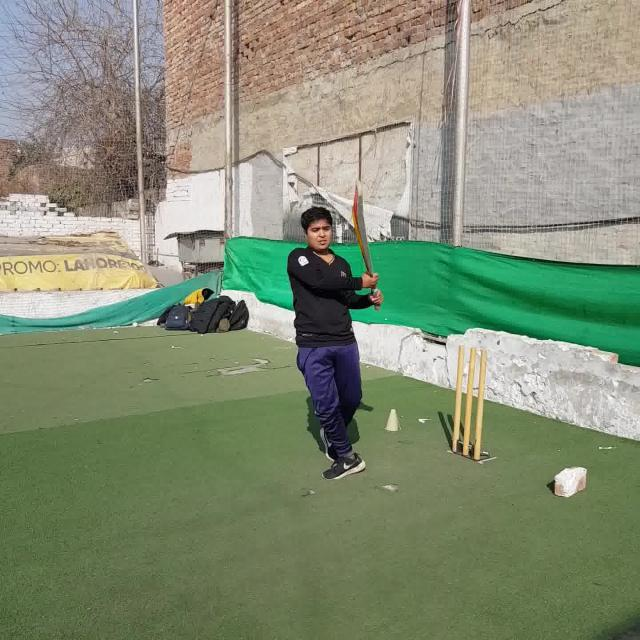ball: (133, 321, 138, 328)
bat: (353, 180, 381, 311)
